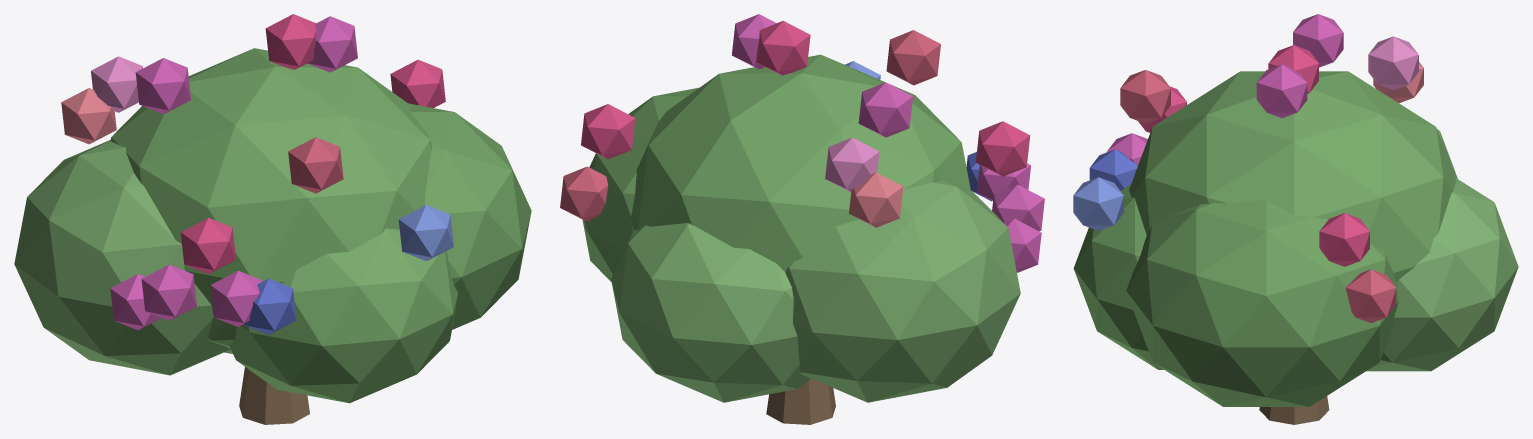
The model's file is Berry_Bush_Emote.glb.
The picture shows the model from 3 angles, left to right: view 1: azimuth 30°, elevation 25°; view 2: azimuth 150°, elevation 25°; view 3: azimuth 270°, elevation 25°; orthographic projection. The views are drawn at different scales.
Parts seen in each view (by area): view 1: BerryBush_Body, Berry_011, Berry_001, Berry_006, Berry_003, Berry_002, Berry_012, Berry_010, Berry_008, Berry_013, Berry_004, Berry_005 (+2 smaller); view 2: BerryBush_Body, Berry_006, Berry_011, Berry_001, Berry_004, Berry_010, Berry_012, Berry_013, Berry_007, Berry_002, Berry_000, Berry_005 (+1 smaller); view 3: BerryBush_Body, Berry_005, Berry_003, Berry_013, Berry_004, Berry_011, Berry_007, Berry_001, Berry_009, Berry_010, Berry_012, Berry_008 (+1 smaller).
Part boxes in pixels (bbox=[...]): BerryBush_Body: bbox=[14, 48, 531, 424]; Berry_011: bbox=[288, 137, 343, 193]; Berry_001: bbox=[135, 58, 190, 114]; Berry_006: bbox=[180, 218, 236, 274]; Berry_003: bbox=[398, 205, 453, 261]; Berry_002: bbox=[141, 264, 196, 320]; Berry_012: bbox=[61, 88, 116, 144]; Berry_010: bbox=[265, 14, 316, 69]; Berry_008: bbox=[210, 270, 262, 326]; Berry_013: bbox=[91, 56, 142, 112]; Berry_004: bbox=[390, 59, 445, 107]; Berry_005: bbox=[307, 16, 357, 72]; BerryBush_Body: bbox=[582, 54, 1020, 424]; Berry_006: bbox=[975, 121, 1030, 176]; Berry_011: bbox=[886, 30, 940, 85]; Berry_001: bbox=[858, 82, 912, 137]; Berry_004: bbox=[581, 104, 635, 158]; Berry_010: bbox=[756, 20, 810, 75]; Berry_012: bbox=[849, 172, 903, 227]; Berry_013: bbox=[825, 137, 879, 191]; Berry_007: bbox=[560, 166, 608, 221]; Berry_002: bbox=[992, 184, 1044, 231]; Berry_000: bbox=[1004, 218, 1041, 272]; Berry_005: bbox=[732, 14, 776, 69]; BerryBush_Body: bbox=[1073, 71, 1518, 424]; Berry_005: bbox=[1256, 64, 1307, 118]; Berry_003: bbox=[1073, 177, 1123, 230]; Berry_013: bbox=[1368, 36, 1418, 90]; Berry_004: bbox=[1319, 213, 1369, 266]; Berry_011: bbox=[1120, 70, 1170, 123]; Berry_007: bbox=[1345, 269, 1396, 322]; Berry_001: bbox=[1293, 14, 1343, 67]; Berry_009: bbox=[1089, 149, 1137, 190]; Berry_010: bbox=[1268, 45, 1318, 93]; Berry_012: bbox=[1373, 62, 1423, 103]; Berry_008: bbox=[1107, 133, 1147, 164].
Size of the model in its own units: 1.38 by 1.18 by 1.27.
